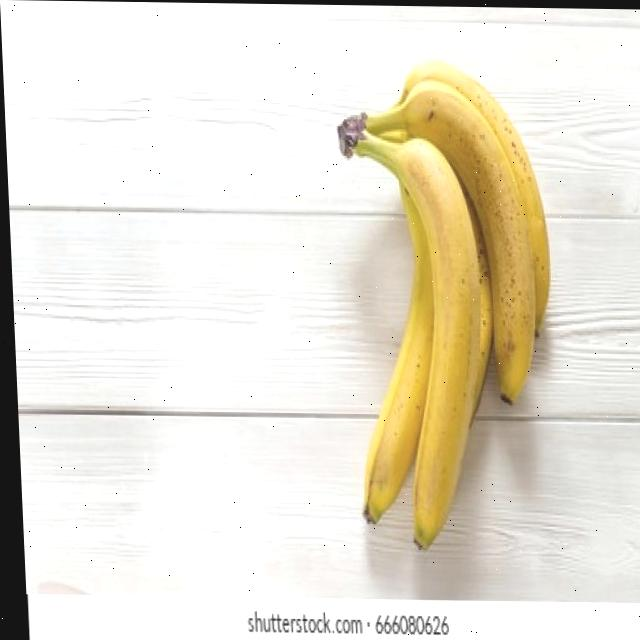banana: (329, 60, 567, 561)
